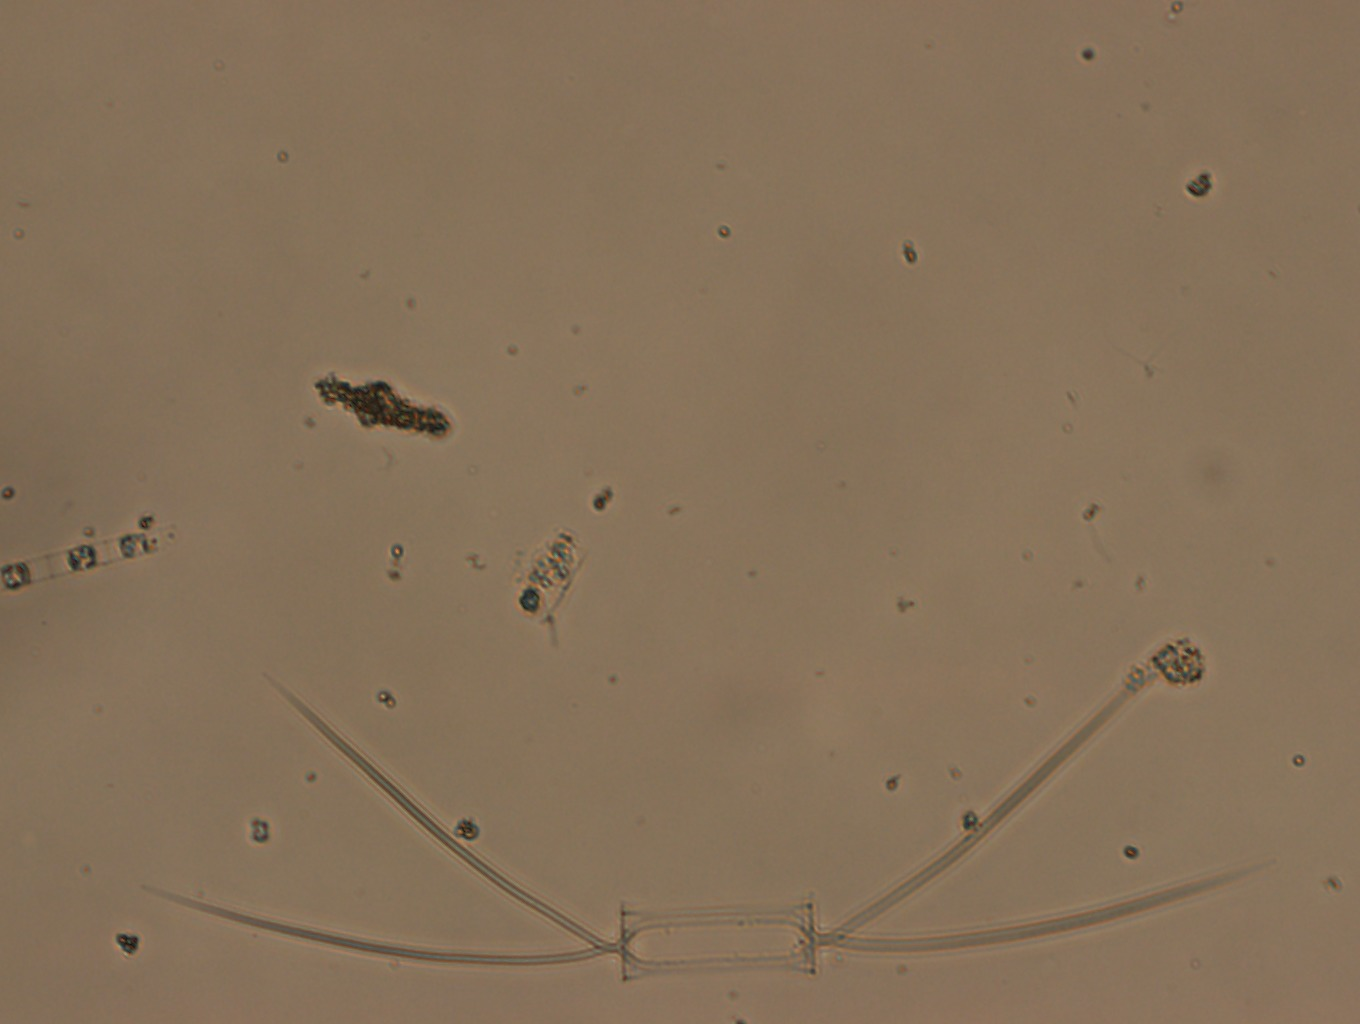chaetoceros: (129, 636, 1272, 1000)
skeletonema: (1, 503, 185, 607)
